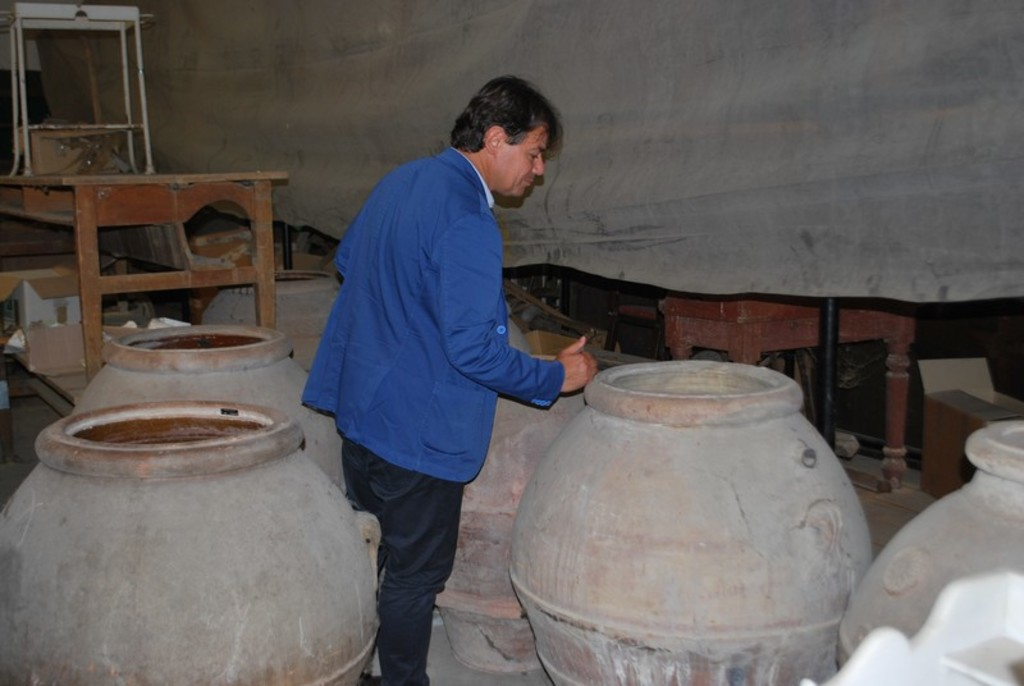Person: (301, 74, 598, 685)
